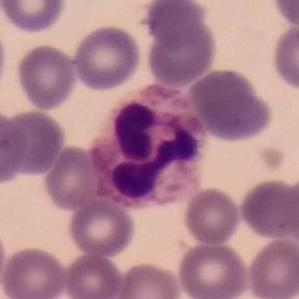Neutrophil: (90, 86, 213, 214)
Platelets: (254, 143, 290, 174)
RBC: (188, 66, 276, 144), (143, 9, 220, 88), (70, 23, 144, 92), (1, 108, 68, 180), (14, 42, 79, 112), (176, 240, 251, 299), (66, 198, 138, 258), (41, 143, 101, 212), (237, 176, 299, 241), (0, 244, 69, 299), (182, 185, 242, 247), (140, 0, 211, 49), (244, 236, 299, 299), (62, 251, 124, 299), (115, 260, 183, 299), (0, 0, 70, 35), (0, 109, 29, 186), (269, 22, 299, 92), (282, 174, 298, 248), (270, 0, 299, 28), (0, 24, 9, 98)
